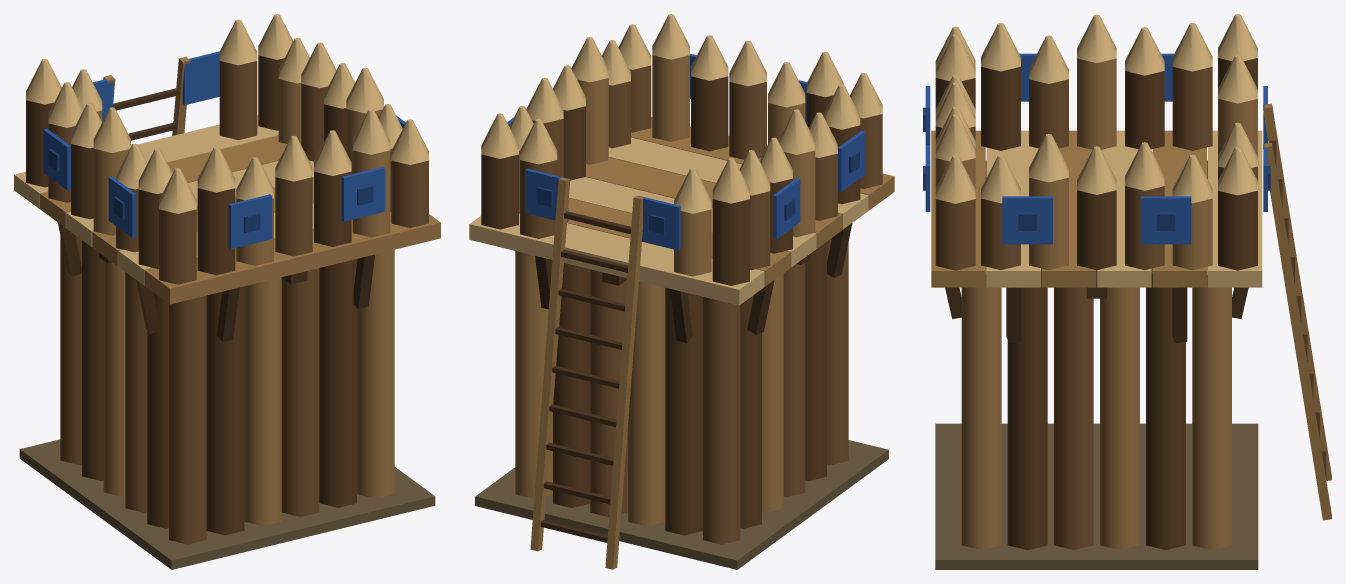
The model's file is palisade-tower.glb.
3 renders of one model, left to right at view 1: azimuth 30°, elevation 25°; view 2: azimuth 150°, elevation 25°; view 3: azimuth 270°, elevation 25°, orthographic. The views are drawn at different scales.
Visible parts, largest first — view 1: palisade-tower; view 2: palisade-tower; view 3: palisade-tower.
Boxes of the visible parts, bbox=[...] form: palisade-tower: bbox=[14, 14, 440, 569]; palisade-tower: bbox=[469, 14, 894, 569]; palisade-tower: bbox=[923, 14, 1331, 569].
Size of the model in its own units: 3.77 by 5.1 by 4.43.
1 material, 1 textured.
